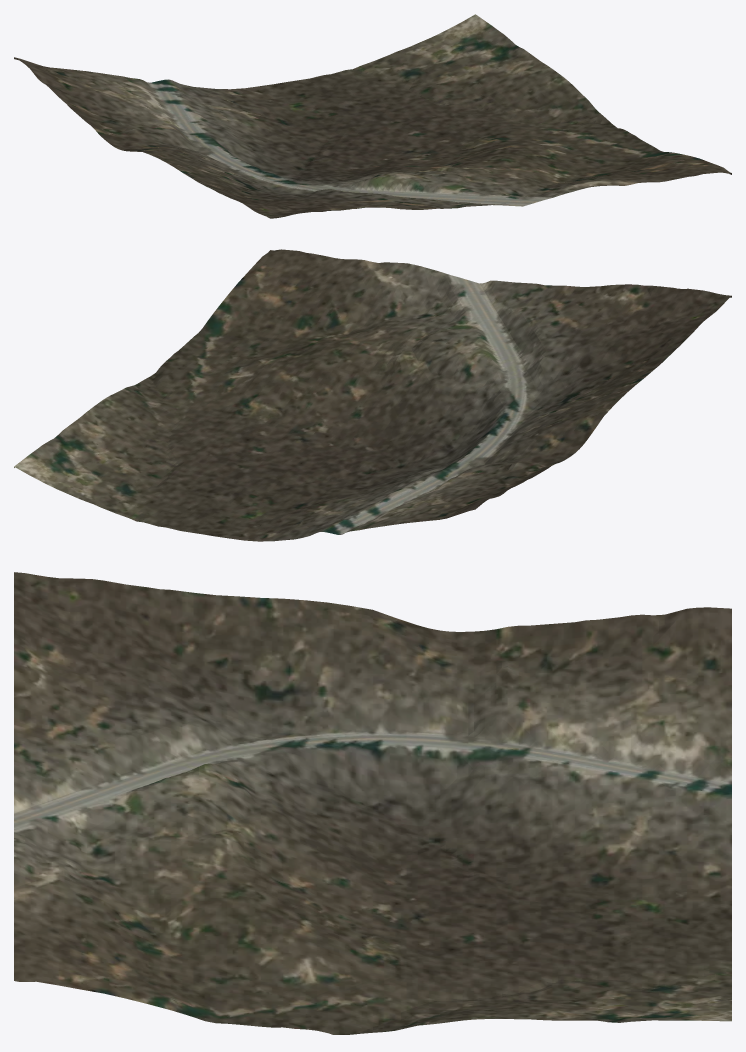
3 views of the same model, one above another, from view 1: azimuth 30°, elevation 25°; view 2: azimuth 150°, elevation 25°; view 3: azimuth 270°, elevation 25° (orthographic). The views are drawn at different scales.
Bounding box in the file's own units: 250 × 63.5 × 241.
1 material, 1 textured.
